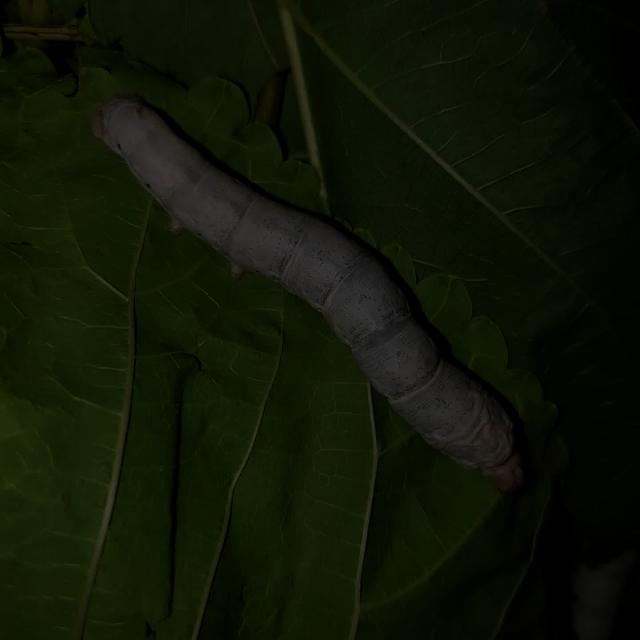Healthy: (70, 64, 558, 516)
